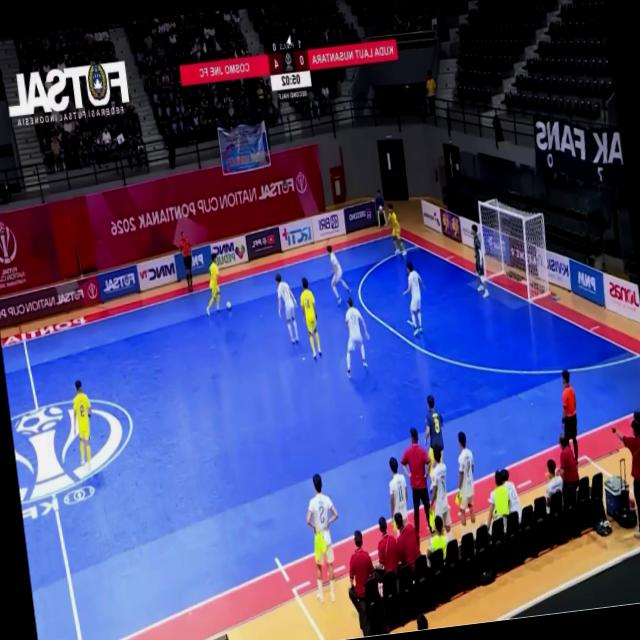keeper: (424, 396, 442, 476), (471, 225, 488, 298)
official: (611, 419, 639, 539), (400, 427, 431, 532), (348, 531, 373, 634), (179, 232, 192, 291)
players: (306, 474, 337, 602), (430, 447, 450, 541), (344, 297, 367, 377), (299, 278, 321, 359), (457, 432, 474, 533), (275, 274, 298, 343), (403, 262, 424, 335), (73, 380, 90, 465), (326, 246, 348, 304), (388, 458, 407, 523), (386, 204, 405, 256), (206, 254, 219, 315)
referee: (561, 370, 577, 464), (179, 232, 192, 291)
